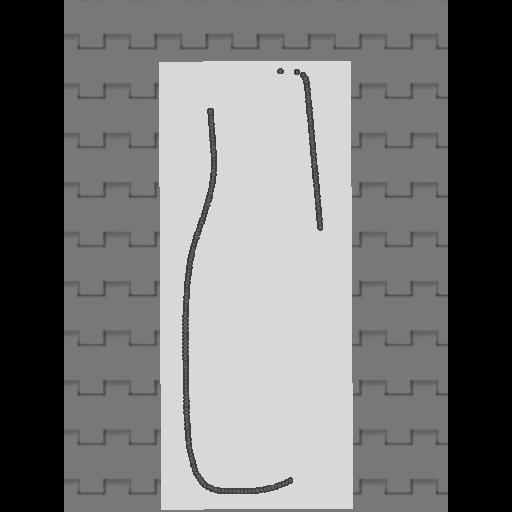Defect: (283, 228, 327, 491)
